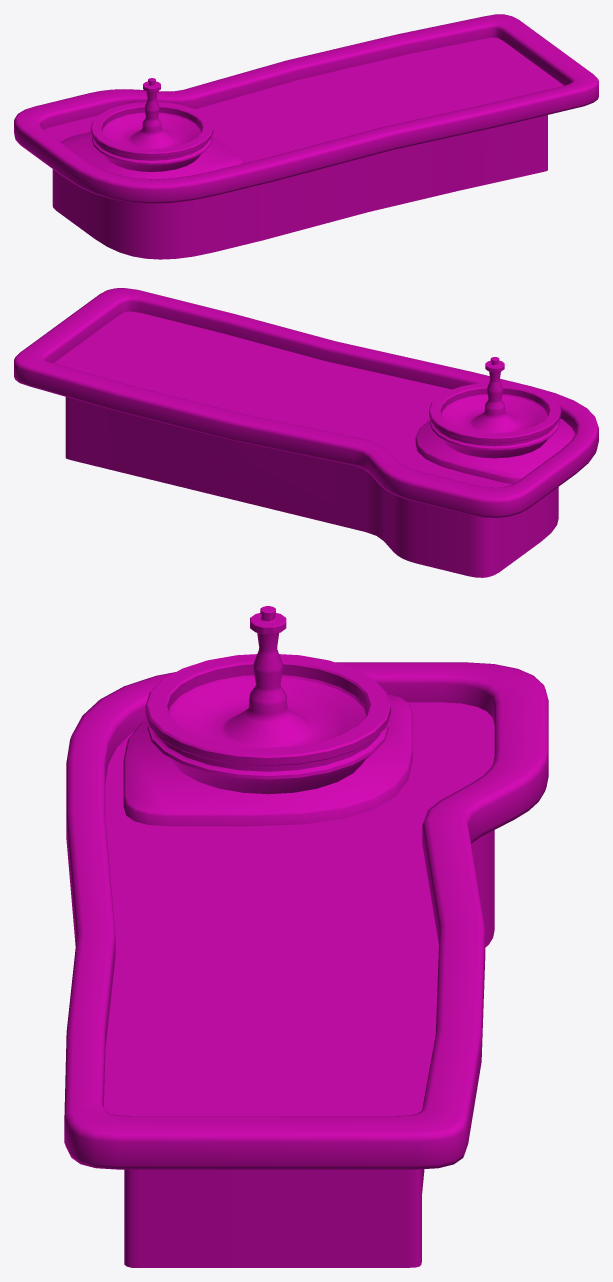
The model's file is SM_Table_roulette.fbx.
3 views of the same model, one above another, from view 1: azimuth 30°, elevation 25°; view 2: azimuth 150°, elevation 25°; view 3: azimuth 270°, elevation 25° (orthographic). The views are drawn at different scales.
Parts seen in each view (by area): view 1: SM_Table_roulette; view 2: SM_Table_roulette; view 3: SM_Table_roulette.
Boxes of the visible parts, x1=… form: SM_Table_roulette: x1=14, y1=14, x2=598, y2=259; SM_Table_roulette: x1=14, y1=288, x2=598, y2=577; SM_Table_roulette: x1=64, y1=606, x2=548, y2=1267.
Size of the model in its own units: 700 by 210 by 301.
